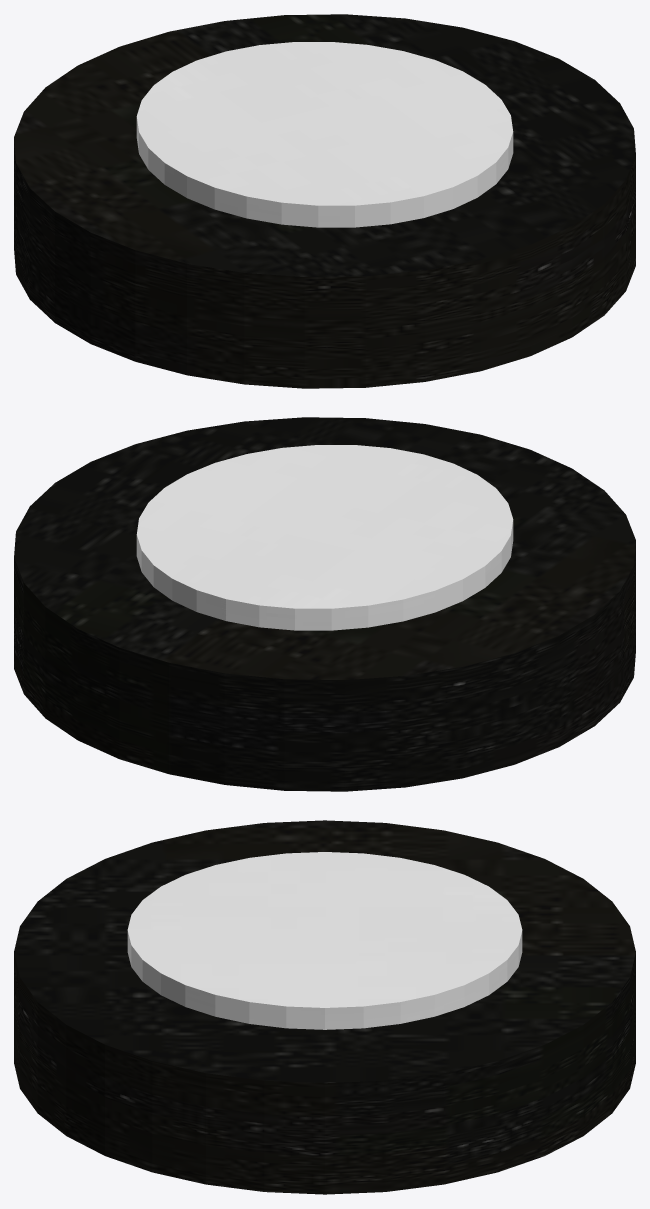
File: luz_techo.obj
The picture shows the model from 3 angles, top to bottom: view 1: azimuth 30°, elevation 25°; view 2: azimuth 150°, elevation 25°; view 3: azimuth 270°, elevation 25°; orthographic projection.
Parts seen in each view (by area): view 1: Cylinder, Cylinder.001; view 2: Cylinder, Cylinder.001; view 3: Cylinder, Cylinder.001.
Part boxes in pixels (left/top/right/bottom): Cylinder: left=14, top=14, right=635, bottom=388; Cylinder.001: left=136, top=42, right=513, bottom=227; Cylinder: left=14, top=417, right=635, bottom=791; Cylinder.001: left=136, top=445, right=513, bottom=630; Cylinder: left=14, top=820, right=635, bottom=1194; Cylinder.001: left=127, top=852, right=522, bottom=1029.
Size of the model in its own units: 2 by 0.4725 by 2.
Materials: 2 (2 with a texture image).
